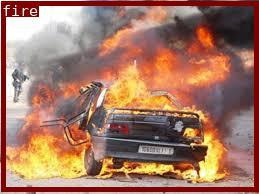fire: (1, 0, 257, 190)
